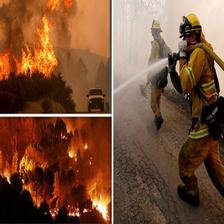fire: (5, 141, 110, 218), (4, 1, 65, 82)
